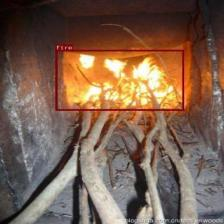fire: (55, 50, 184, 110)
